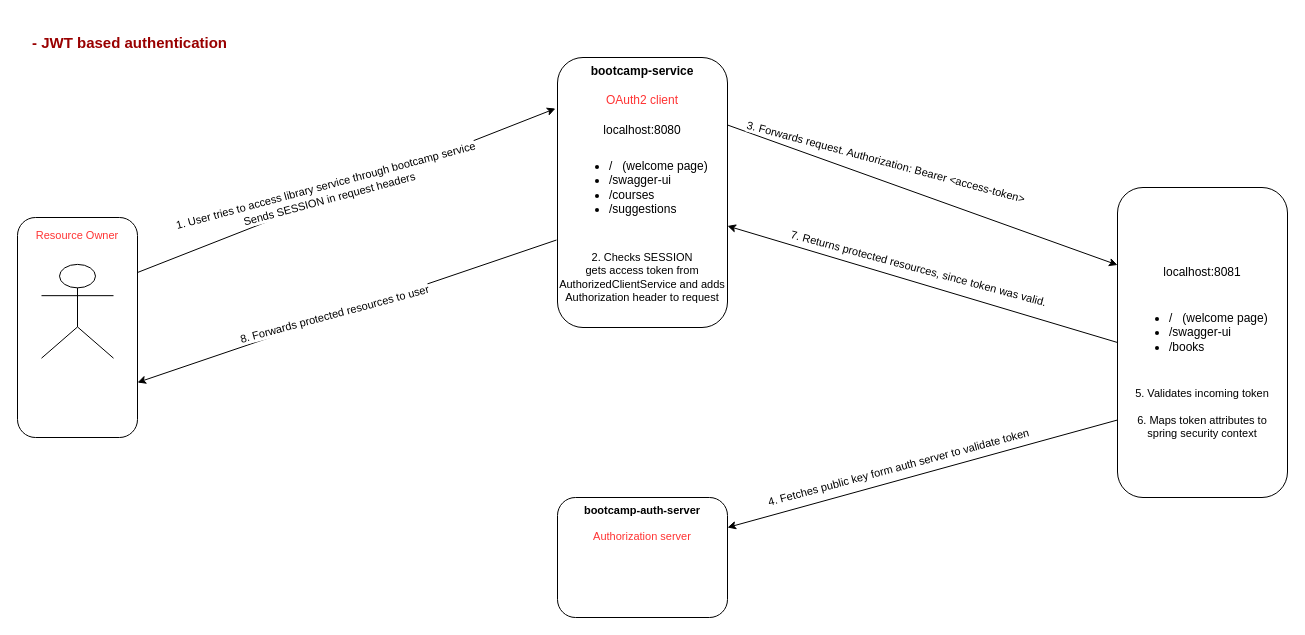
Some shapes in this 1305 by 635 pixel diagram are drawn without their labels. The shapes that lost their labels are listed below. From the top down, each one's box as (x1, y1, x2, y2) in pixels, then its label:
(40, 263, 114, 358): User
(1116, 186, 1288, 498): library-service Resource server
